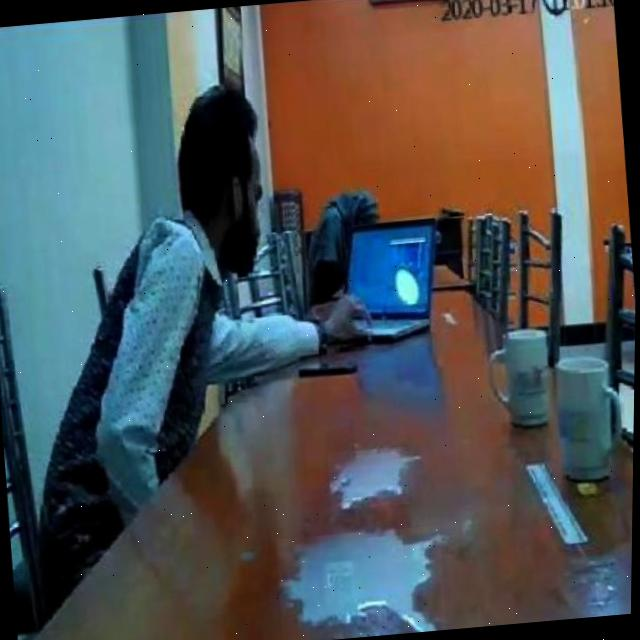spillage: (281, 529, 442, 633), (332, 448, 409, 509)
